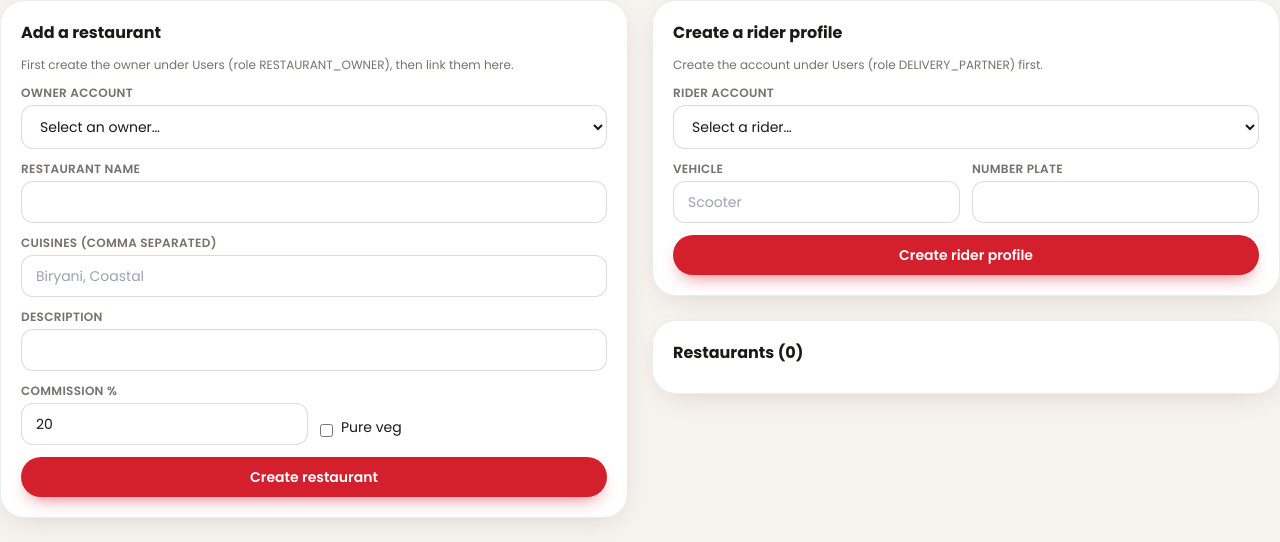
admin partners onboarding › shows the server error when a rider profile already exists
Select "Rahul (r@z.com)" in the dropdown labelled "Rider account" at (966, 127), box [673,105,1259,149]
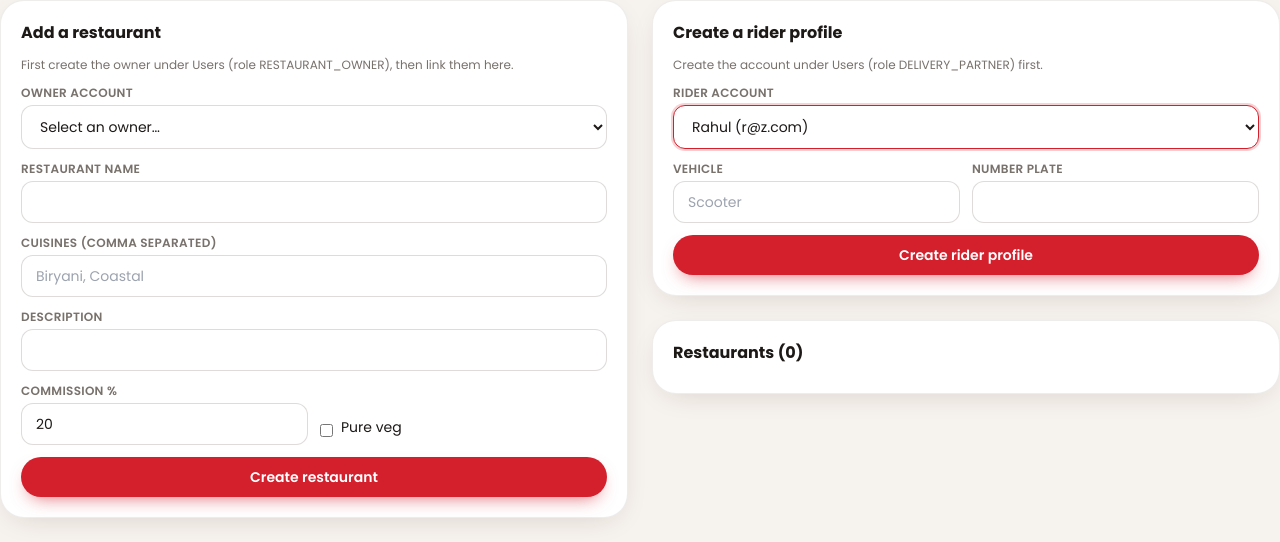
Click the button "Create rider profile" at (966, 255), box [673,235,1259,275]
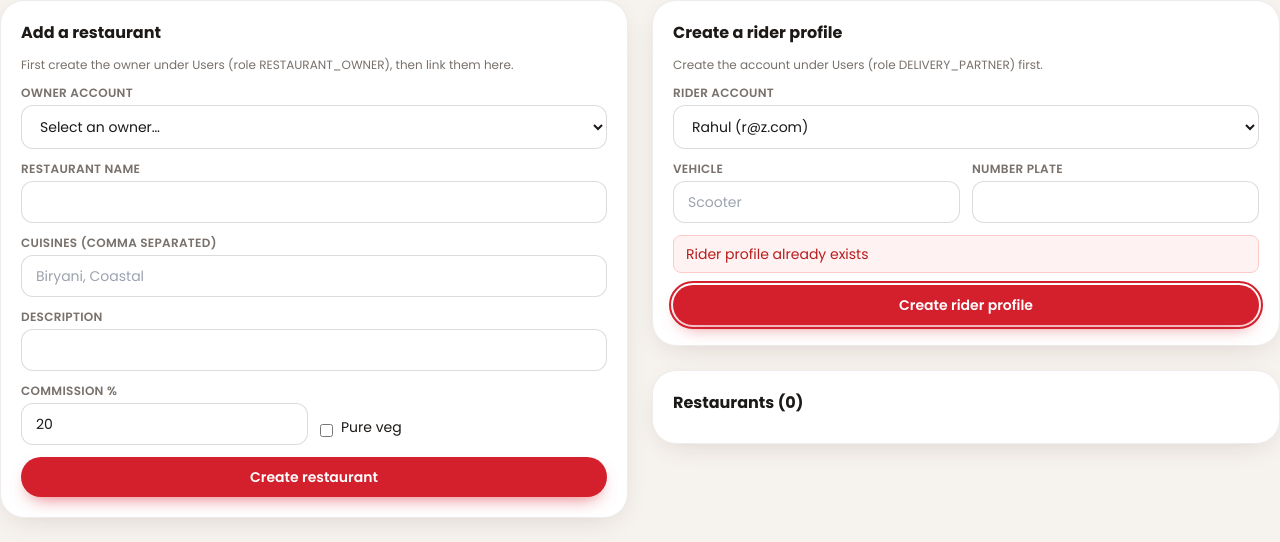
Expected: the message reads "Rider profile already exists", [686,244,868,264]
